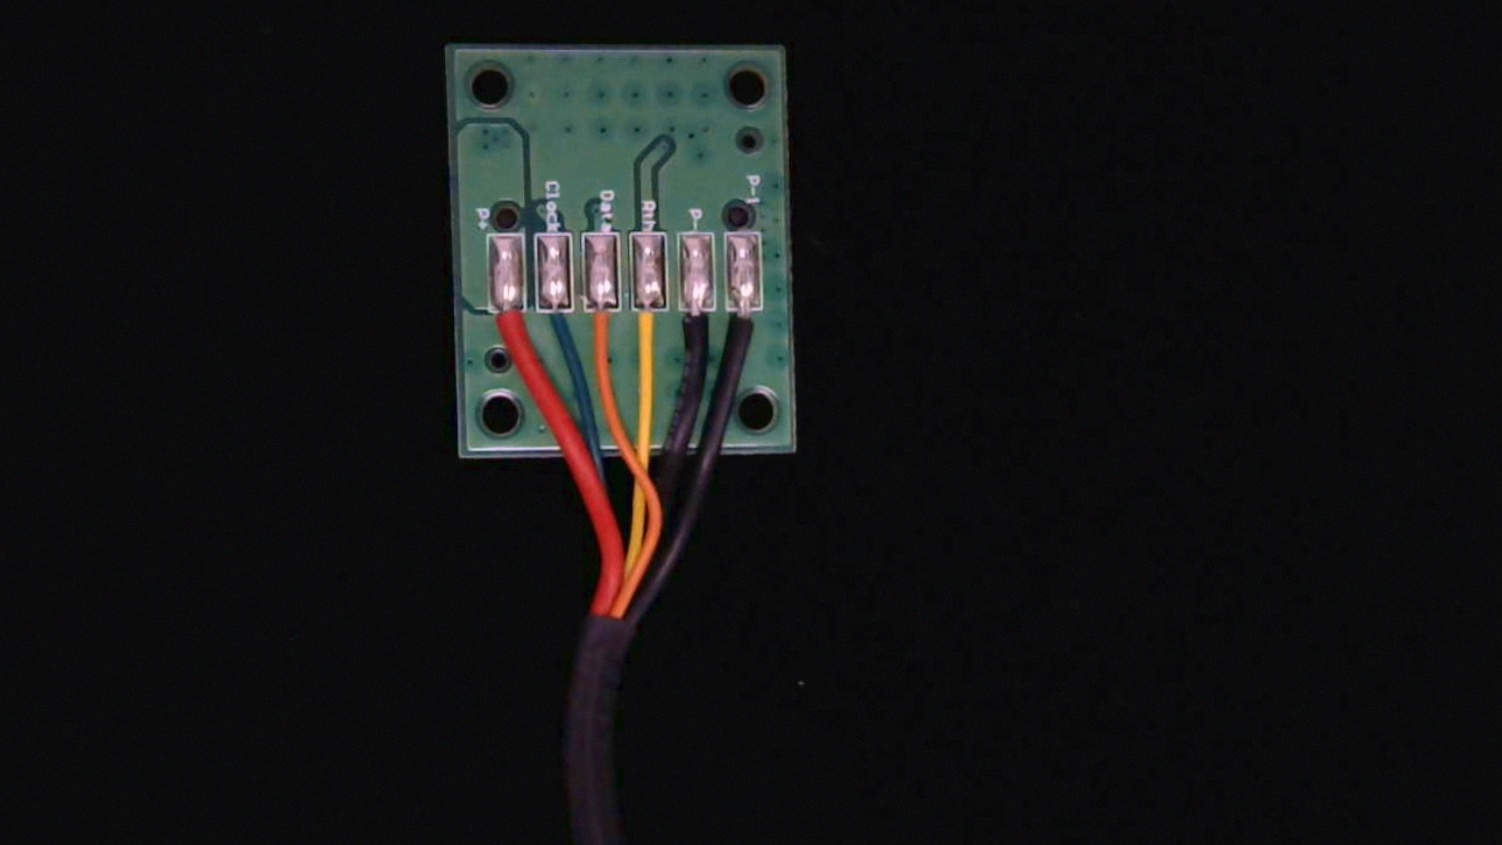Black: (674, 293, 719, 372)
Black1: (726, 291, 766, 375)
Green: (537, 290, 574, 363)
Orange: (583, 293, 621, 368)
Red: (487, 293, 528, 365)
Yellow: (629, 292, 670, 373)
